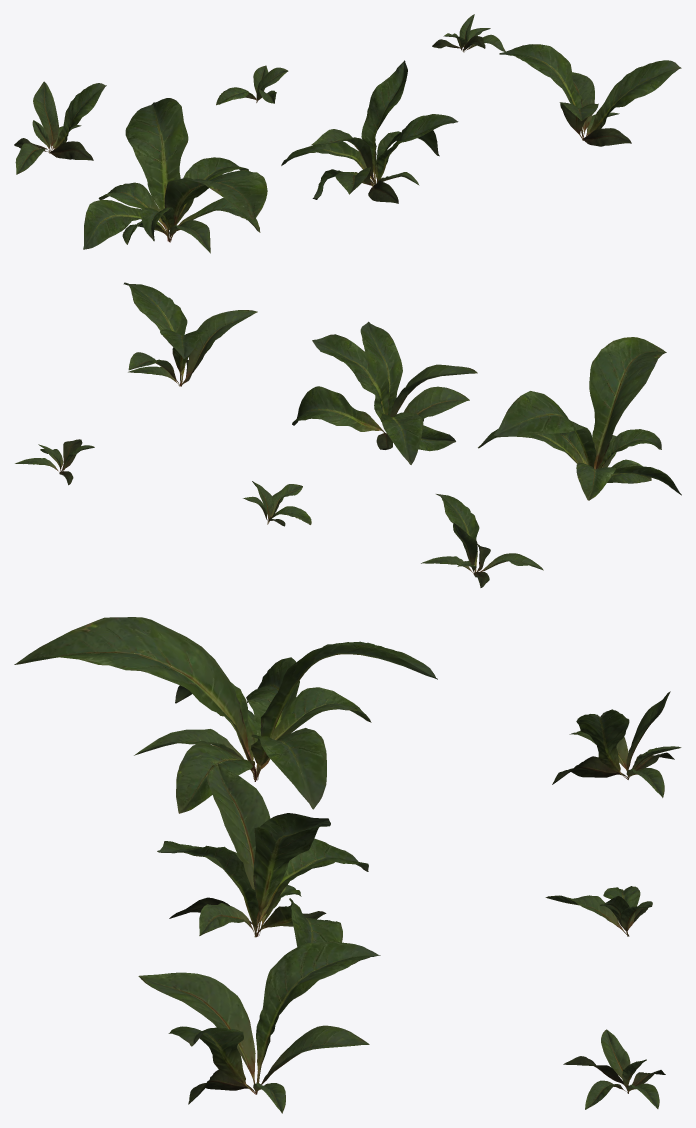
Rendered from anthurium_botany_01.gltf.
The picture shows the model from 3 angles, top to bottom: view 1: azimuth 30°, elevation 25°; view 2: azimuth 150°, elevation 25°; view 3: azimuth 270°, elevation 25°; orthographic projection. The views are drawn at different scales.
Parts seen in each view (by area): view 1: lod0 (×6); view 2: lod0 (×6); view 3: lod0 (×6).
Part boxes in pixels (box(x1,y1,x2,y2)): lod0 (×6): box(14, 14, 681, 253); lod0 (×6): box(15, 282, 681, 587); lod0 (×6): box(14, 617, 681, 1113).
Size of what is drawn, in the model's own units: 2.8 by 0.4982 by 1.8.
1 material, 1 textured.
